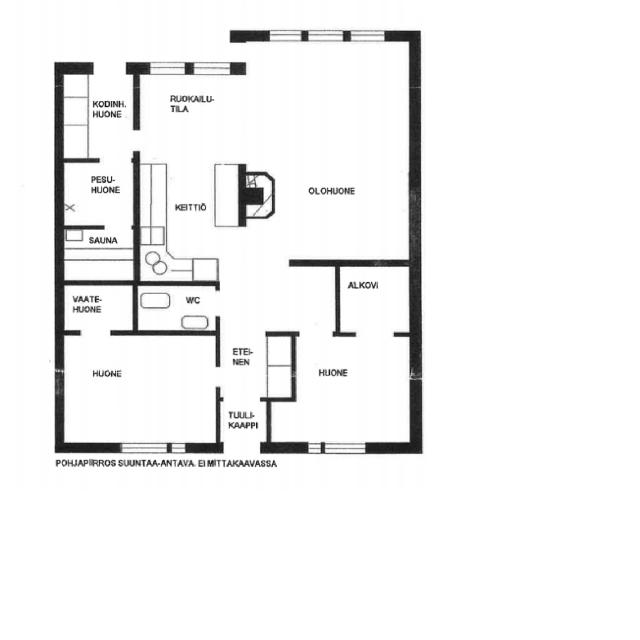door: (223, 443, 261, 486), (93, 34, 126, 76), (223, 366, 260, 402), (300, 333, 334, 366), (80, 331, 112, 363), (100, 132, 131, 162), (216, 290, 251, 316), (105, 203, 132, 229), (208, 43, 246, 61), (134, 130, 164, 152), (192, 366, 220, 388)
